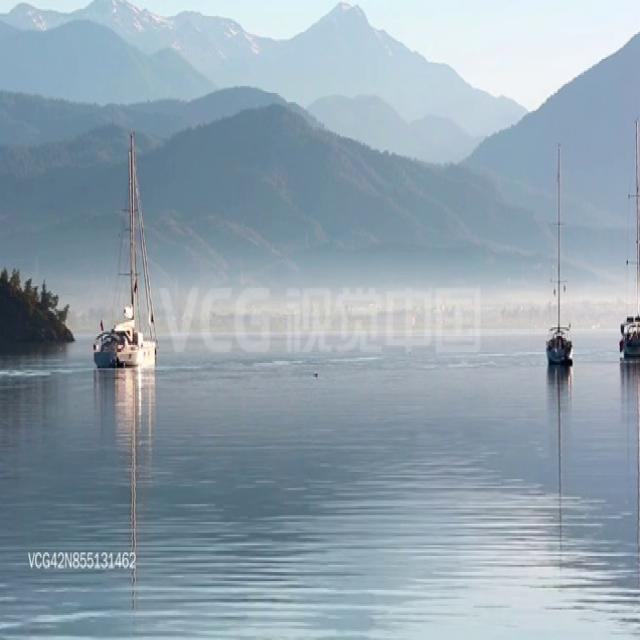sailboat: (92, 128, 160, 372), (544, 137, 574, 369), (618, 111, 640, 366)
